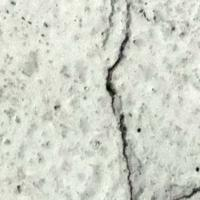crack: (90, 0, 150, 199)
